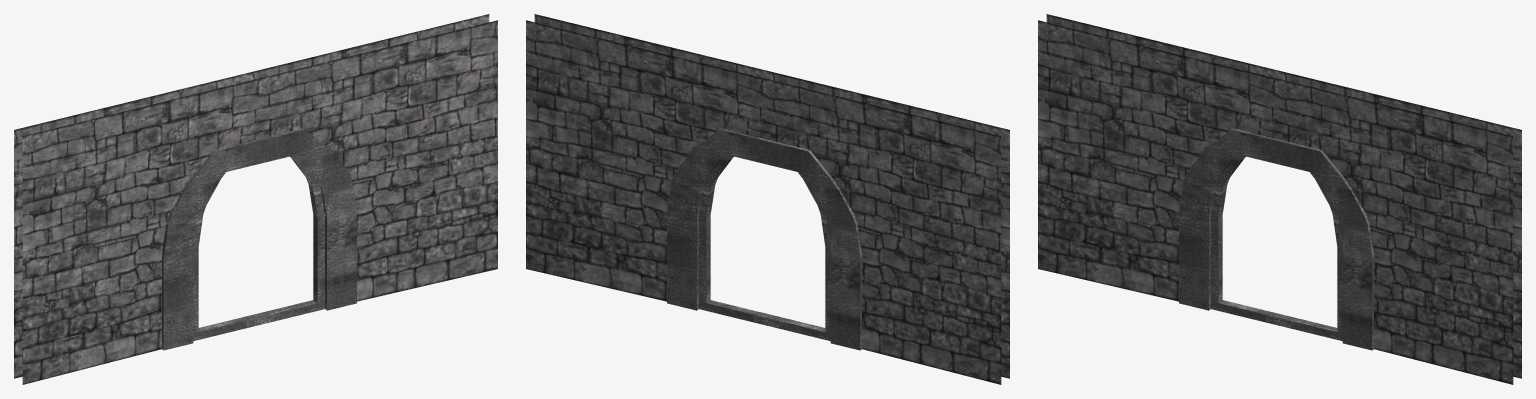
Rendered from crypt_doorjam_00.FBX.
3 renders of one model, left to right at view 1: azimuth 30°, elevation 25°; view 2: azimuth 150°, elevation 25°; view 3: azimuth 330°, elevation 25°, orthographic.
Parts seen in each view (by area): view 1: doorwall, Box09; view 2: doorwall, Box09; view 3: doorwall, Box09.
Part boxes in pixels (x1,y1,x2,y2): doorwall: (14, 14, 497, 384); Box09: (162, 128, 356, 350); doorwall: (526, 14, 1009, 384); Box09: (667, 128, 861, 350); doorwall: (1038, 14, 1521, 384); Box09: (1179, 128, 1373, 350).
Bounding box in the file's own units: 512 × 16 × 256.
